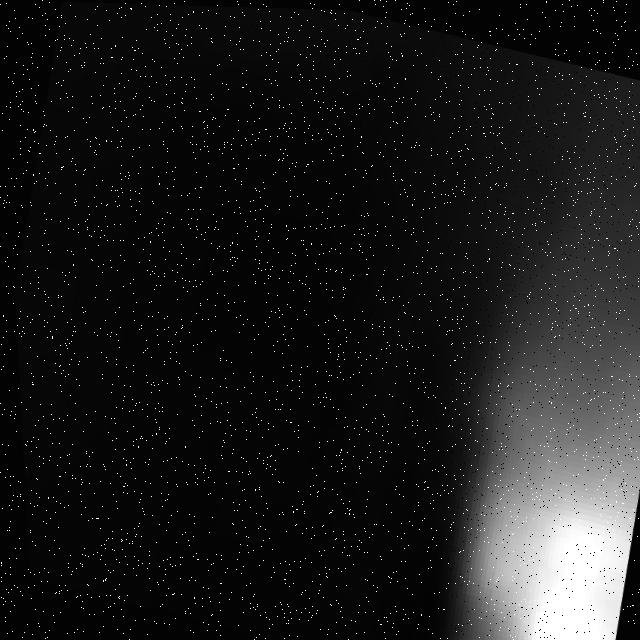person: (391, 160, 640, 640)
